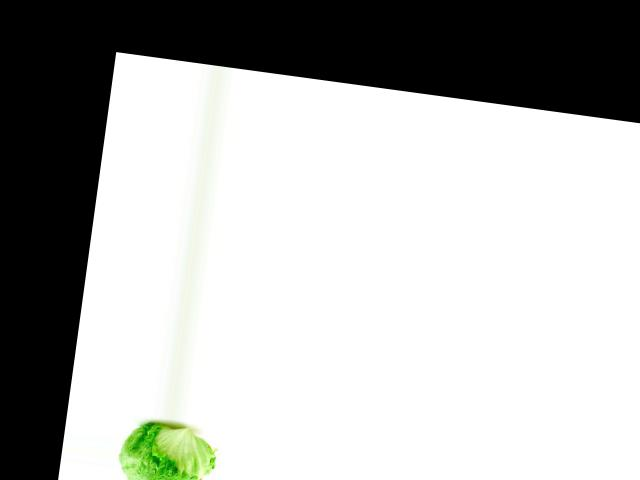lettuce: (110, 417, 219, 480)
